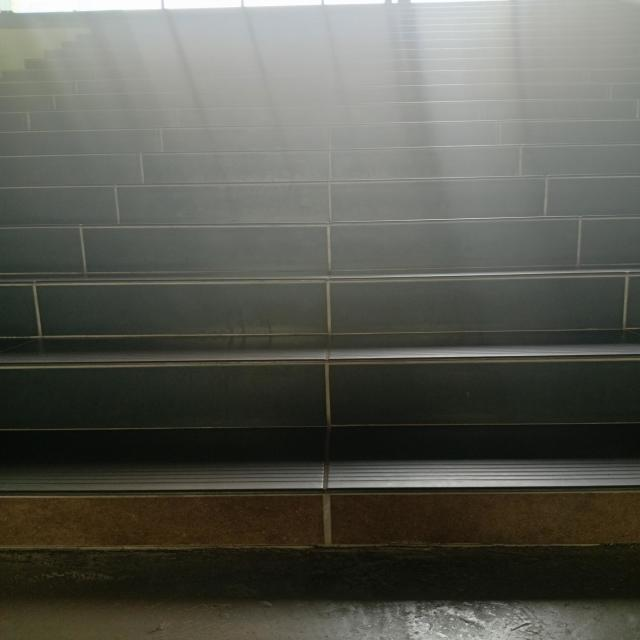Stairs: (1, 183, 640, 629)
